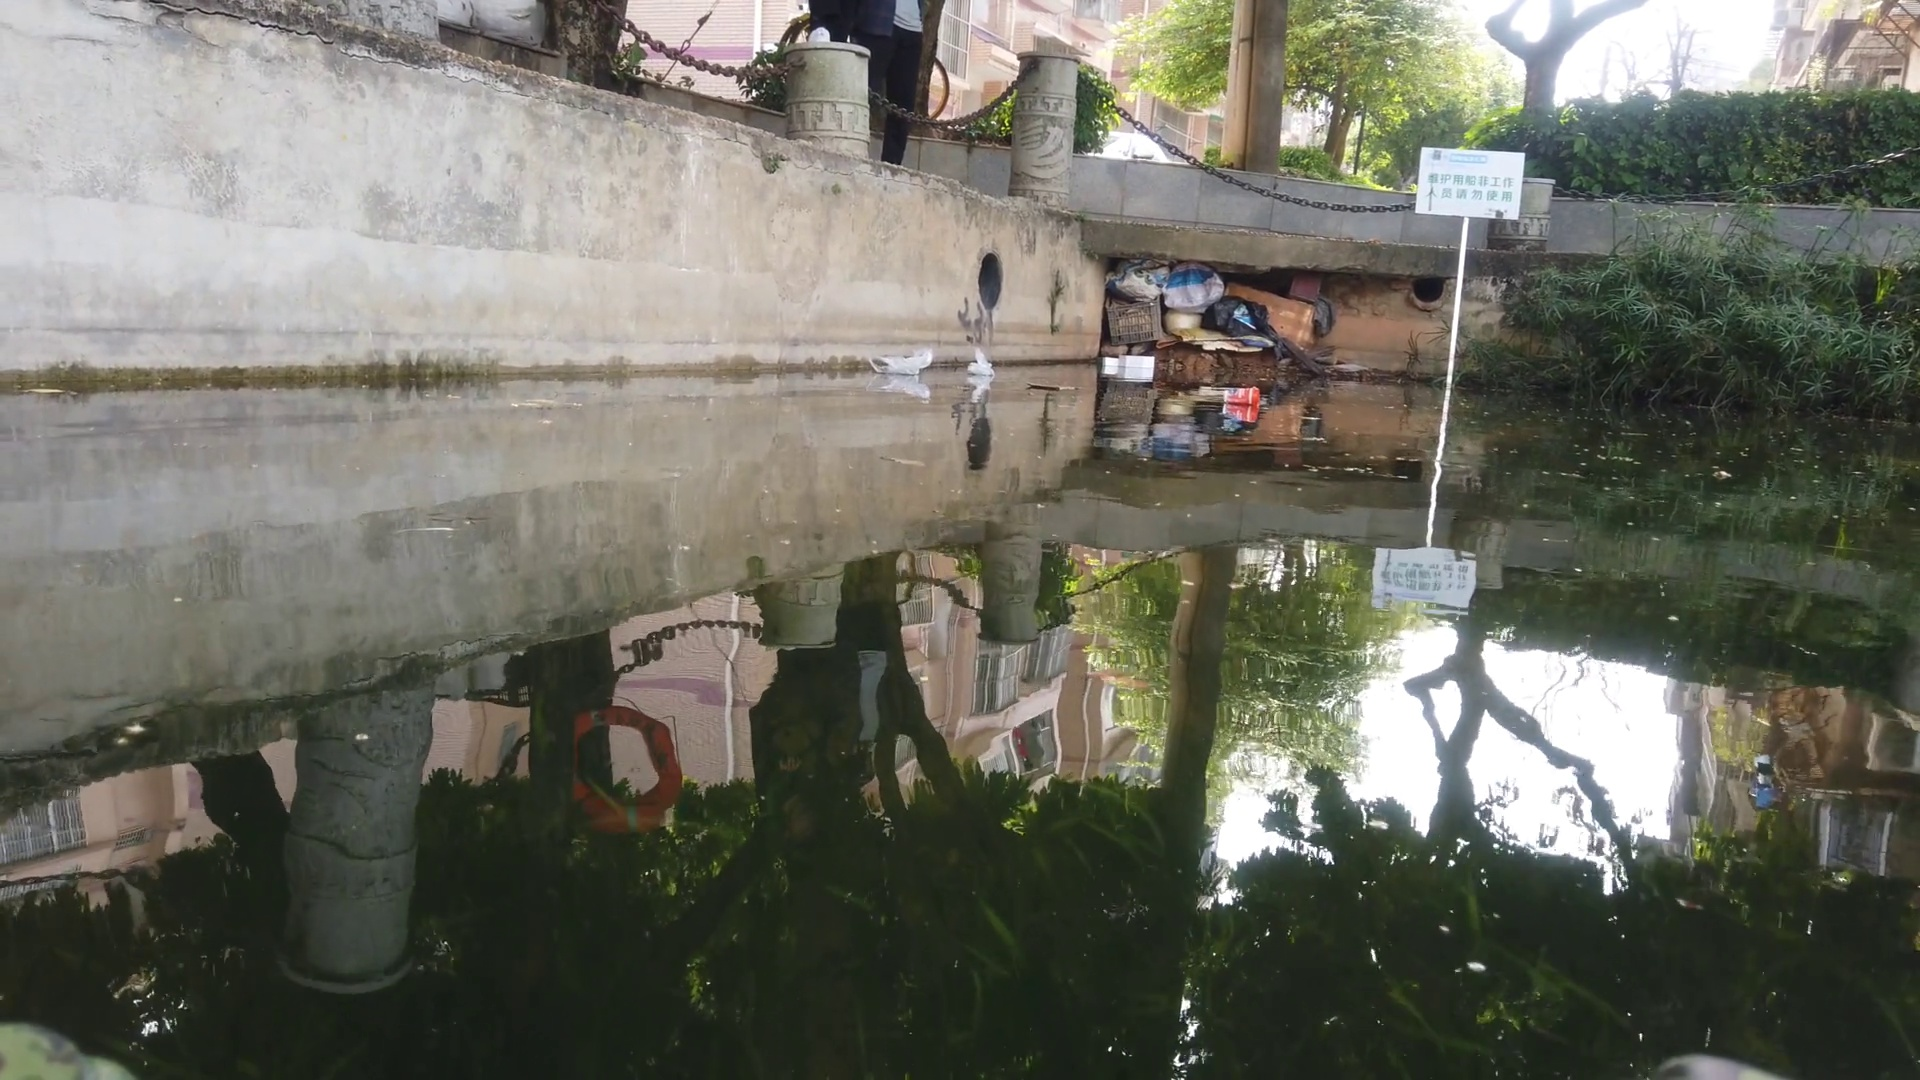bottle: (1222, 384, 1267, 406)
carton: (1118, 356, 1158, 371), (1098, 357, 1118, 364)
paper: (1026, 378, 1077, 393)
plastic: (864, 345, 942, 375), (964, 351, 1004, 376)
